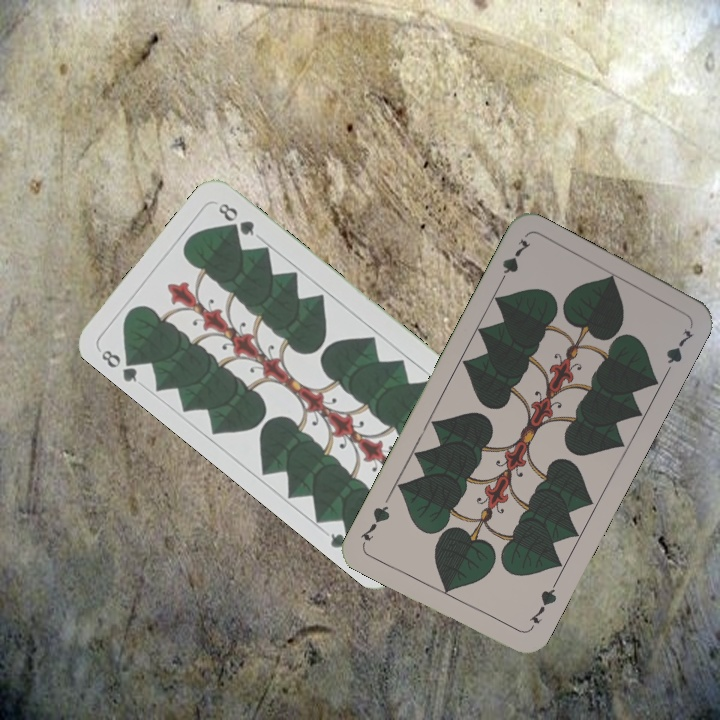G7: (494, 234, 534, 289), (526, 578, 560, 627)
G8: (97, 345, 143, 385)
